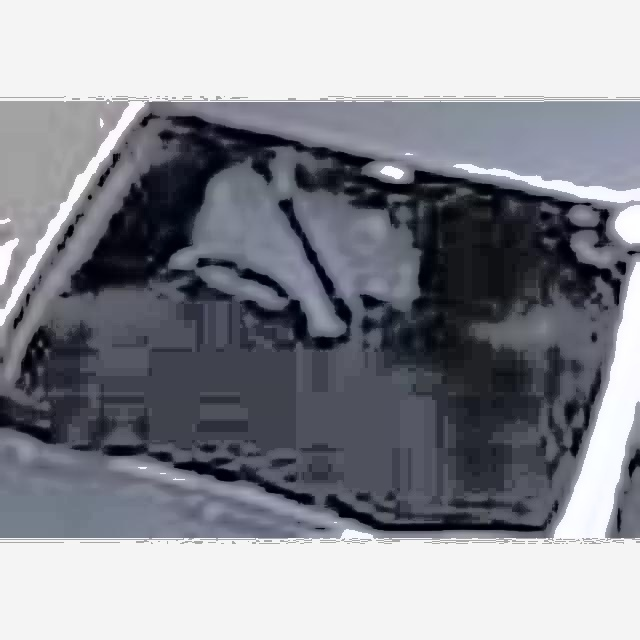pakai: (178, 139, 425, 367)
